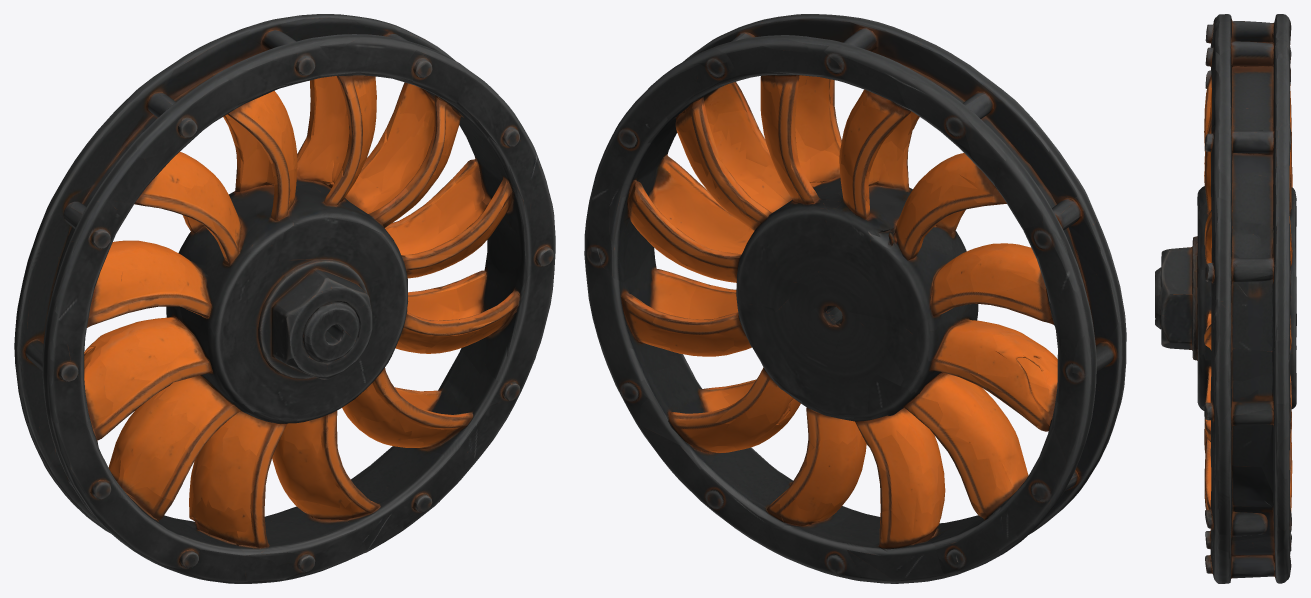
File: turbina_cancello.glb
3 views of the same model, side by side, from view 1: azimuth 30°, elevation 25°; view 2: azimuth 150°, elevation 25°; view 3: azimuth 270°, elevation 25° (orthographic). The views are drawn at different scales.
Parts seen in each view (by area): view 1: Mesh_0; view 2: Mesh_0; view 3: Mesh_0.
Part boxes in pixels (x1=…): Mesh_0: x1=14, y1=14, x2=555, y2=583; Mesh_0: x1=584, y1=14, x2=1126, y2=583; Mesh_0: x1=1155, y1=14, x2=1296, y2=583.
Bounding box in the file's own units: 1.9 × 1.9 × 0.4734.
1 material, 1 textured.
